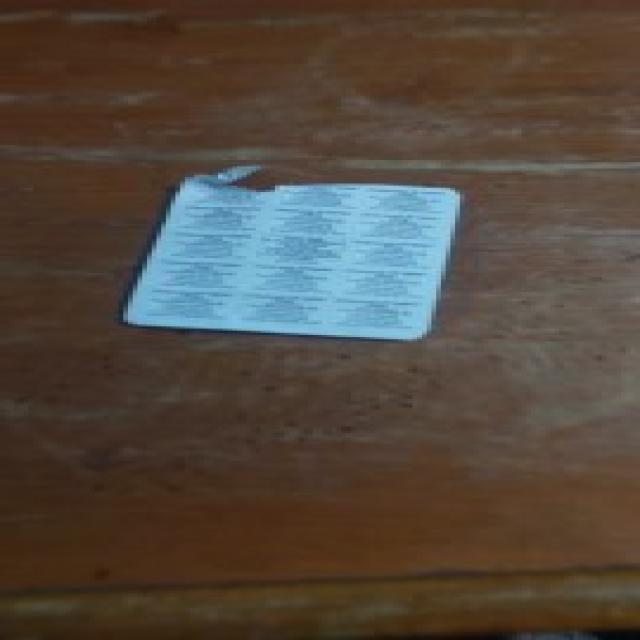Cacat: (115, 163, 460, 345)
Kemasan: (174, 165, 280, 212)
